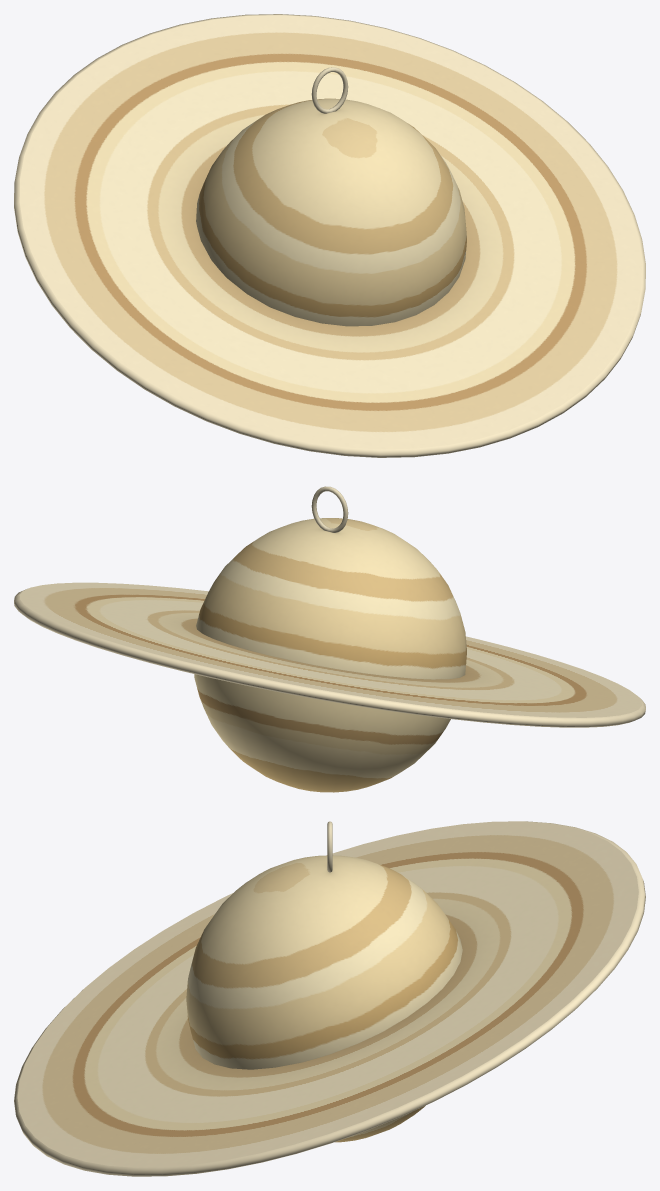
Rendered from saturn.fbx.
3 renders of one model, top to bottom at view 1: azimuth 30°, elevation 25°; view 2: azimuth 150°, elevation 25°; view 3: azimuth 270°, elevation 25°, orthographic. The views are drawn at different scales.
Visible parts, largest first — view 1: saturn; view 2: saturn; view 3: saturn.
Boxes of the visible parts, bbox=[...] form: saturn: bbox=[14, 14, 645, 457]; saturn: bbox=[14, 486, 645, 792]; saturn: bbox=[14, 821, 645, 1176].
Bounding box in the file's own units: 14000 × 7055 × 13190.
1 material, 1 textured.
